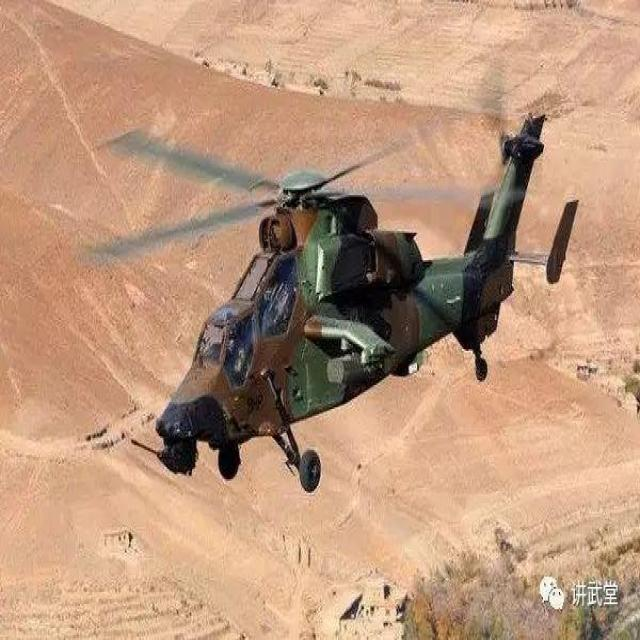MIL_HELO: (102, 99, 576, 493)
